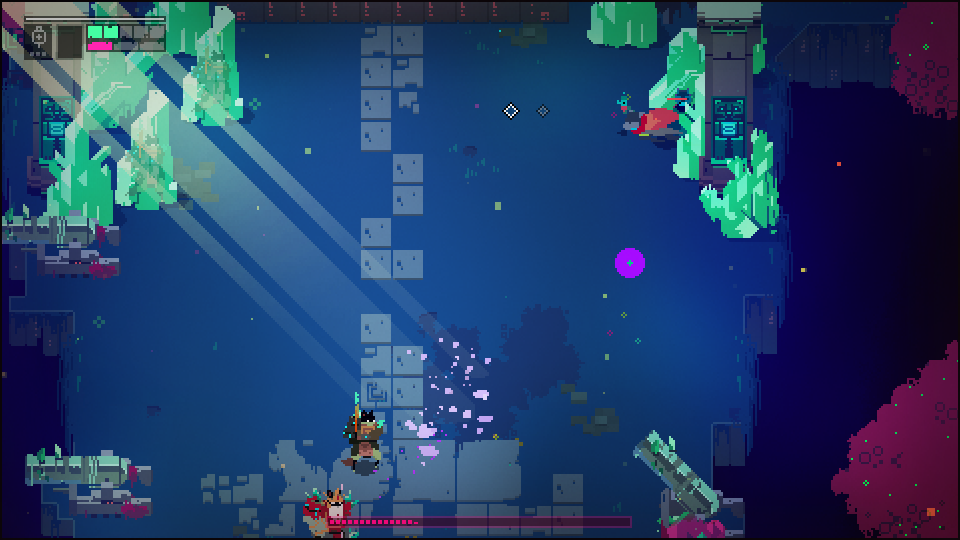hanged_man: (298, 479, 361, 540)
hanged_shot: (611, 246, 648, 282)
player: (619, 106, 686, 141)
